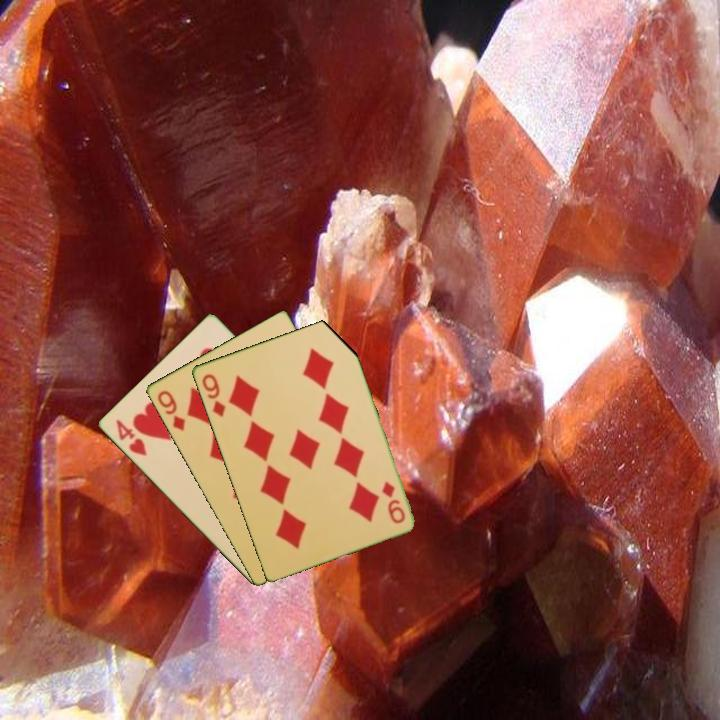4h: (112, 415, 149, 459)
9d: (153, 387, 188, 434), (198, 370, 228, 420), (378, 478, 408, 526)
